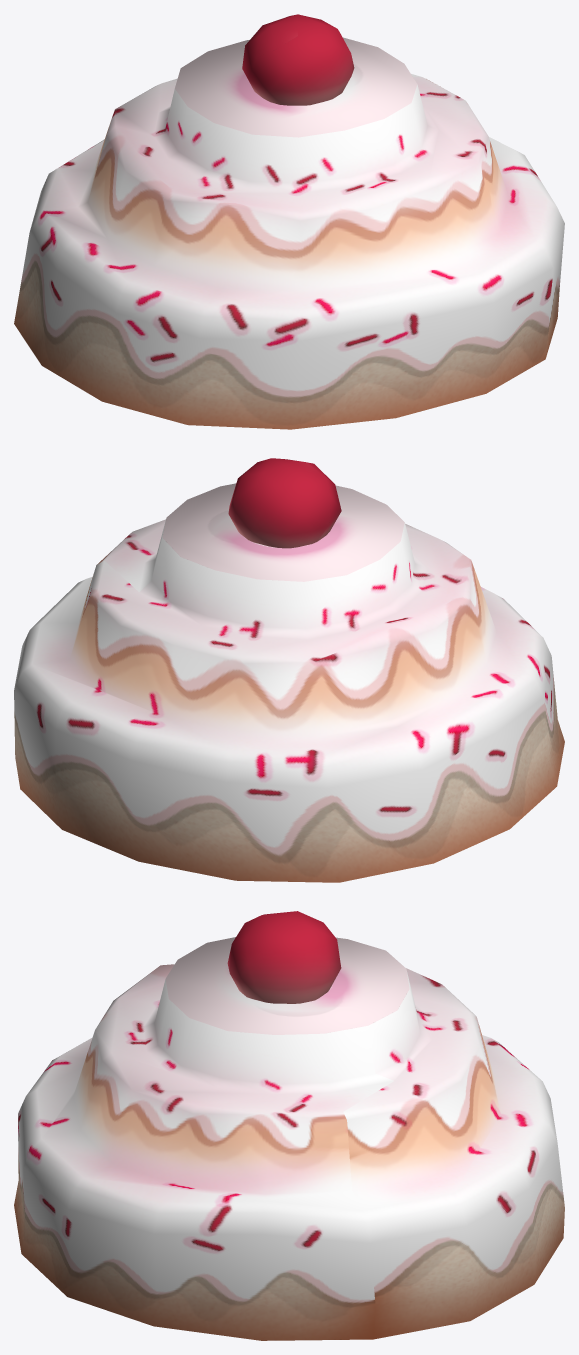
File: CherryCake.fbx
3 views of the same model, one above another, from view 1: azimuth 30°, elevation 25°; view 2: azimuth 150°, elevation 25°; view 3: azimuth 270°, elevation 25° (orthographic). The views are drawn at different scales.
Parts seen in each view (by area): view 1: CherryCake; view 2: CherryCake; view 3: CherryCake.
Part boxes in pixels (x1,y1,x2,y2): CherryCake: [14, 14, 564, 429]; CherryCake: [14, 458, 564, 882]; CherryCake: [14, 911, 564, 1340].
Bounding box in the file's own units: 442 × 275 × 437.
